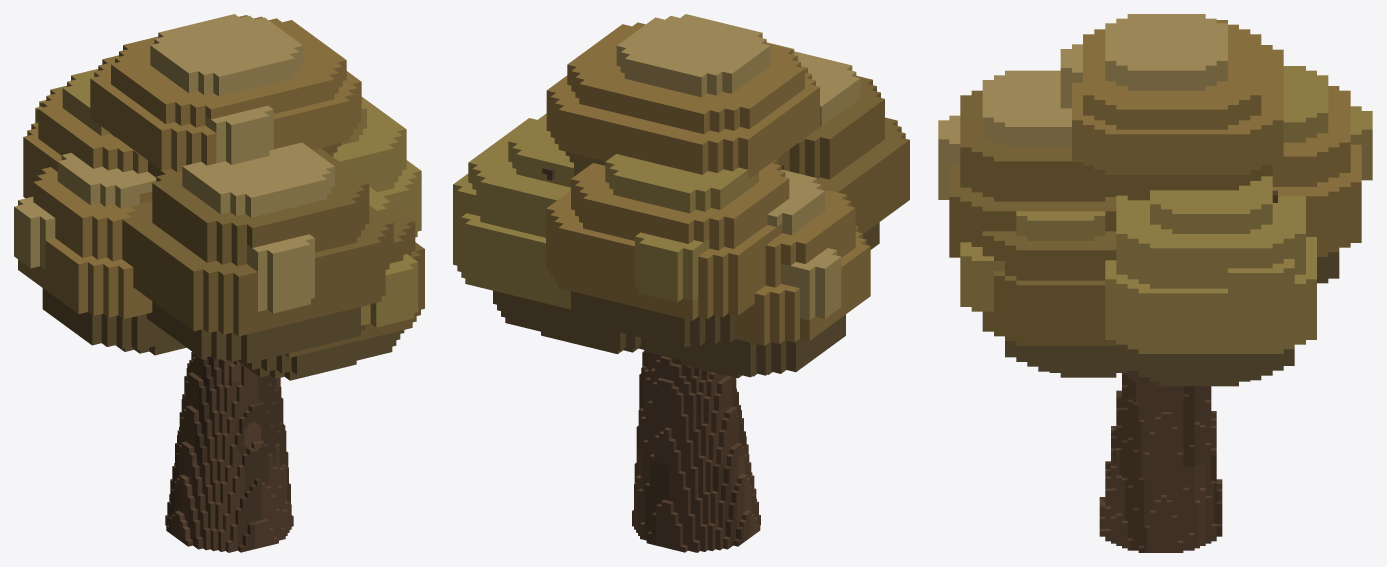
The model's file is apple_mature_autumn_3.glb.
The picture shows the model from 3 angles, left to right: view 1: azimuth 30°, elevation 25°; view 2: azimuth 150°, elevation 25°; view 3: azimuth 270°, elevation 25°; orthographic projection.
Visible parts, largest first — view 1: VoxelVisual; view 2: VoxelVisual; view 3: VoxelVisual.
Boxes of the visible parts, x1,y1,x2,y2 form: VoxelVisual: (14,14,424,552); VoxelVisual: (453,14,909,552); VoxelVisual: (938,14,1372,552).
Size of what is drawn, in the model's own units: 9.25 by 12 by 9.75.
